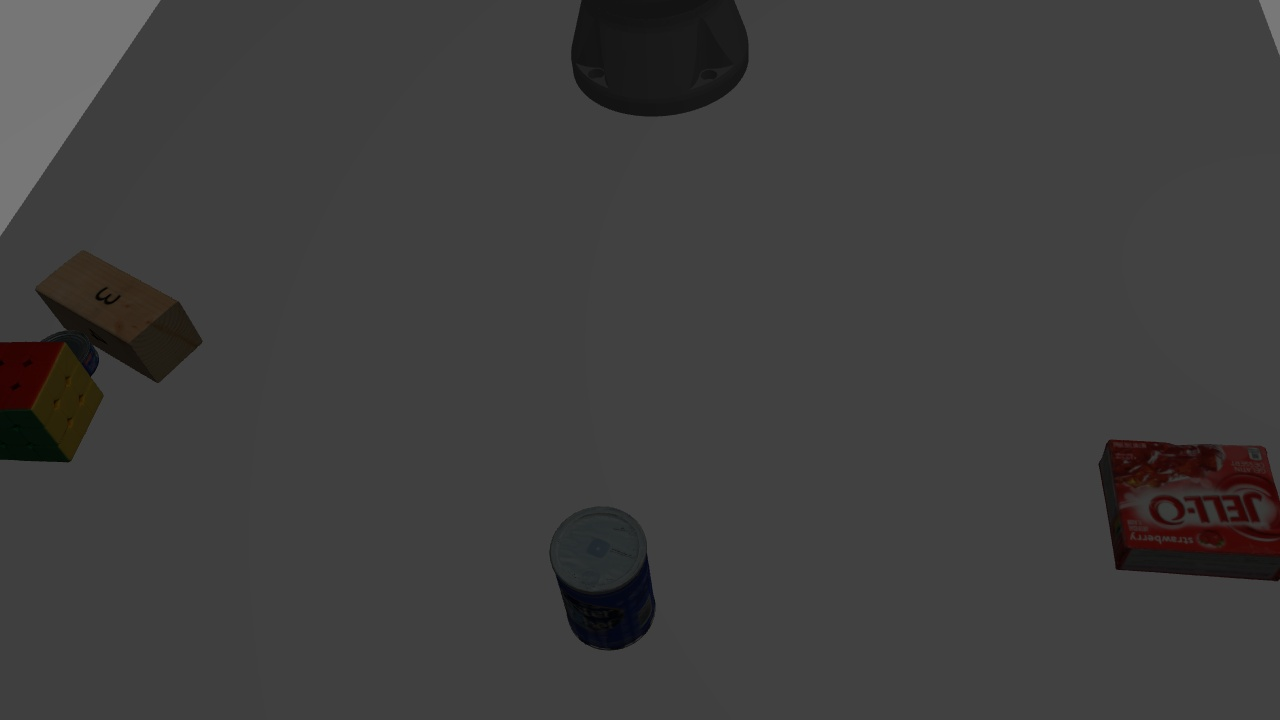gelatin_box: (1097, 430, 1276, 586)
master_chef_can: (543, 494, 672, 655)
rubiks_cube: (3, 337, 104, 465)
tuna_fish_can: (34, 324, 106, 373)
wood_block: (31, 243, 205, 383)
